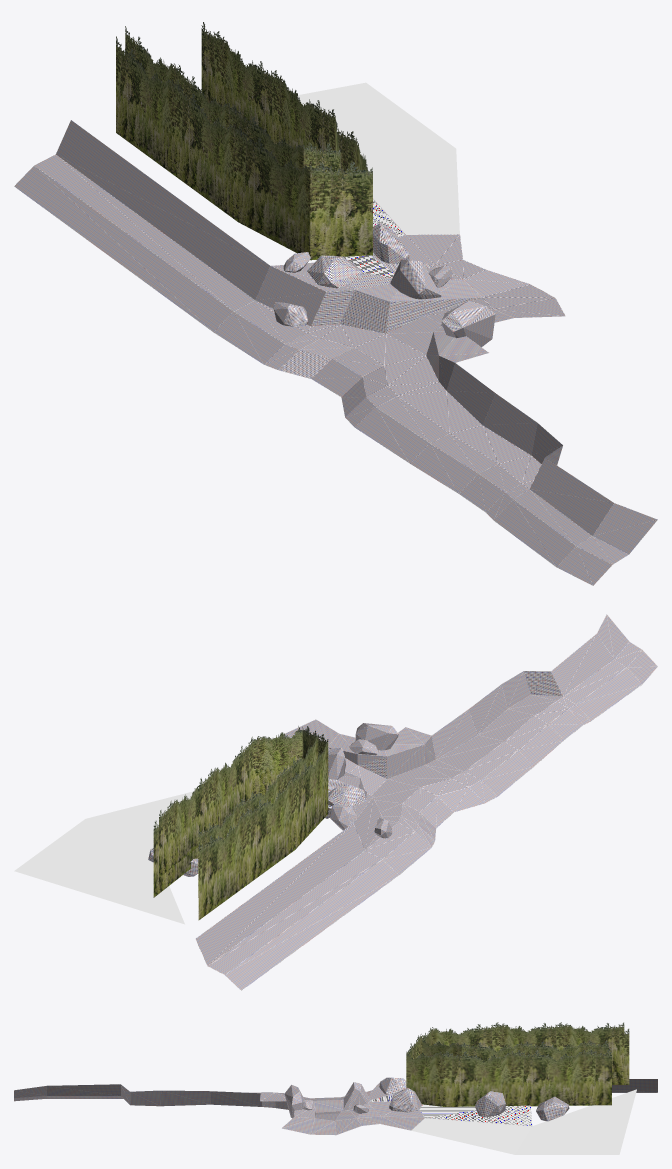
File: map.obj
3 views of the same model, one above another, from view 1: azimuth 30°, elevation 25°; view 2: azimuth 150°, elevation 25°; view 3: azimuth 270°, elevation 25° (orthographic). The views are drawn at different scales.
Visible parts, largest first — view 1: Cube.001; view 2: Cube.001; view 3: Cube.001.
Boxes of the visible parts, <box> form: Cube.001: <box>14,22,657,585</box>; Cube.001: <box>14,614,657,990</box>; Cube.001: <box>14,1022,657,1154</box>.
Bounding box in the file's own units: 61.72 × 31.12 × 185.
